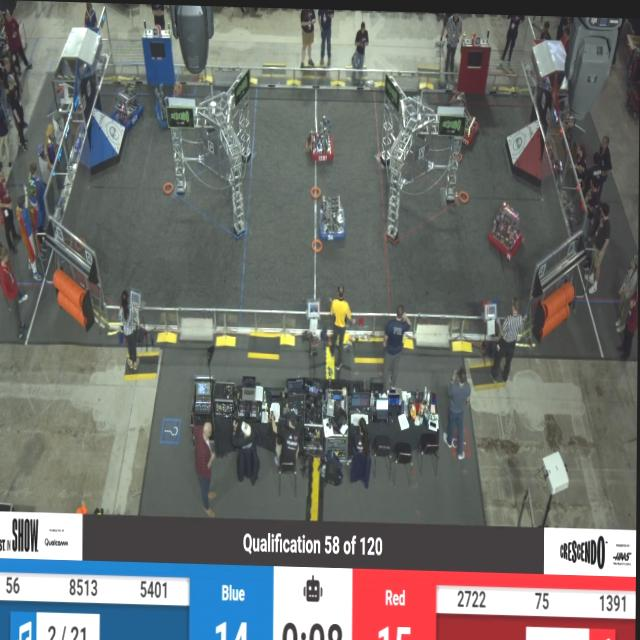Robot: (445, 82, 483, 154), (151, 69, 188, 133), (487, 198, 526, 258), (305, 109, 336, 163), (115, 78, 146, 131), (318, 188, 348, 242)
